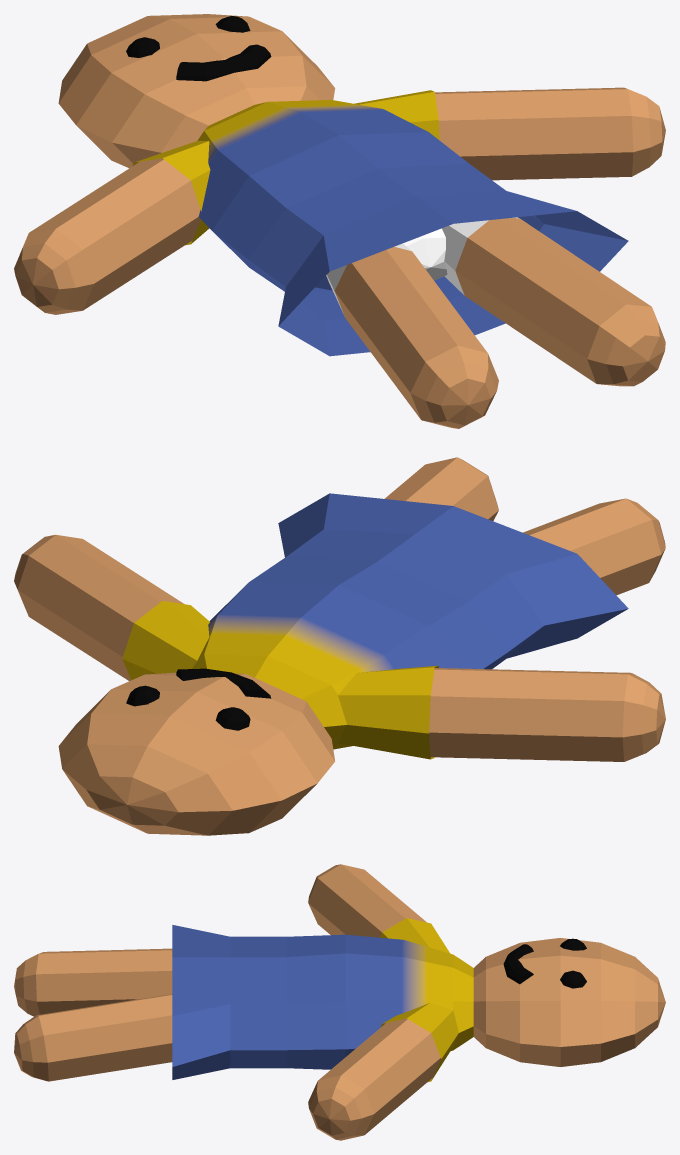
The model's file is DollGirl.fbx.
3 renders of one model, top to bottom at view 1: azimuth 30°, elevation 25°; view 2: azimuth 150°, elevation 25°; view 3: azimuth 270°, elevation 25°, orthographic. The views are drawn at different scales.
Parts seen in each view (by area): view 1: Sphere; view 2: Sphere; view 3: Sphere.
Part boxes in pixels (x1,y1,x2,y2): Sphere: (14, 14, 665, 428); Sphere: (14, 457, 665, 835); Sphere: (14, 864, 665, 1140).
Bounding box in the file's own units: 21.39 × 4.14 × 24.92.
